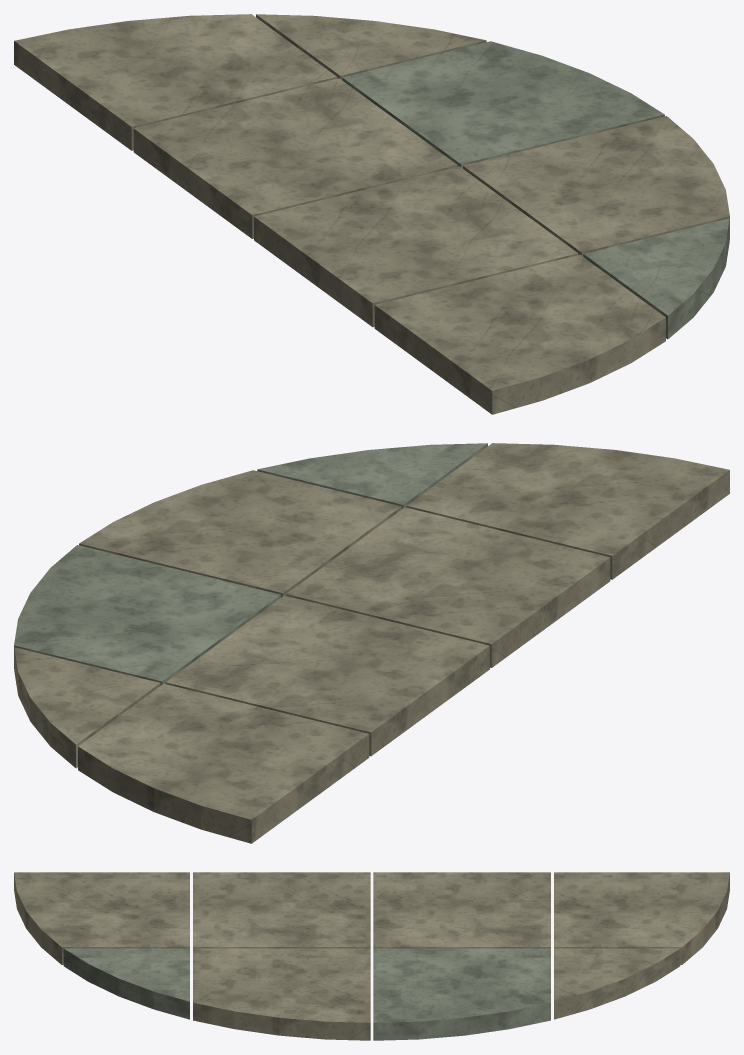
Rendered from b01_niche_floor.fbx.
The picture shows the model from 3 angles, top to bottom: view 1: azimuth 30°, elevation 25°; view 2: azimuth 150°, elevation 25°; view 3: azimuth 270°, elevation 25°; orthographic projection. The views are drawn at different scales.
Visible parts, largest first — view 1: b01_niche_floor; view 2: b01_niche_floor; view 3: b01_niche_floor.
Part boxes in pixels (x1,y1,x2,y2): b01_niche_floor: (14,14,729,414); b01_niche_floor: (14,443,729,843); b01_niche_floor: (14,872,729,1040).
Size of the model in its own units: 25293 by 50787 by 1400.
